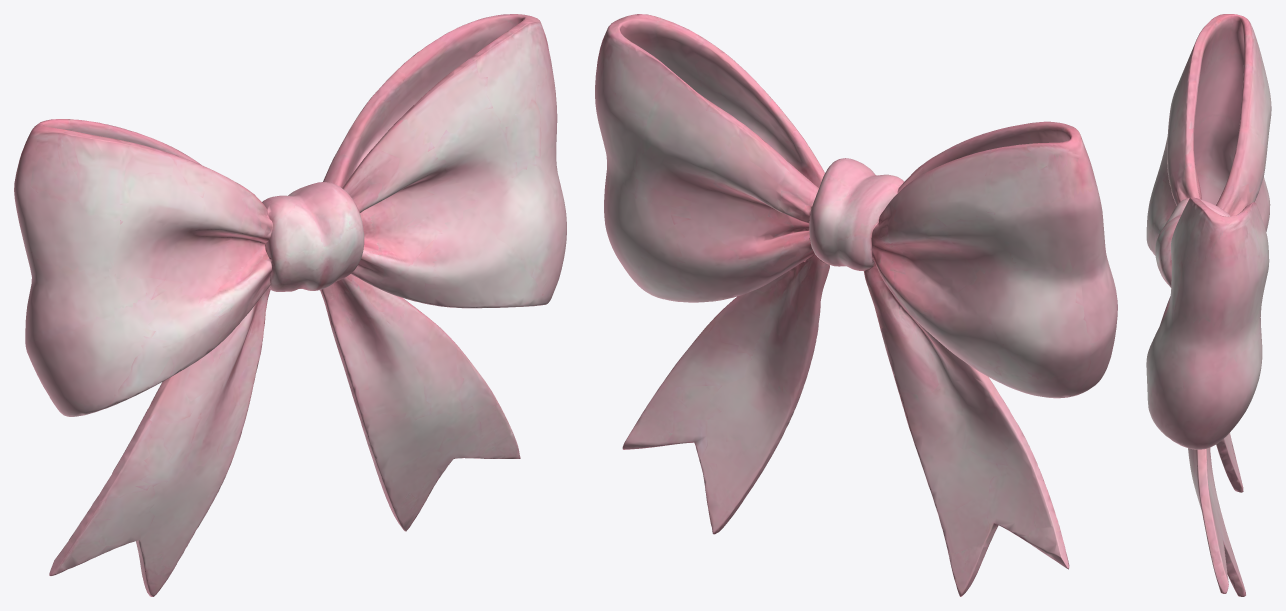
3 views of the same model, side by side, from view 1: azimuth 30°, elevation 25°; view 2: azimuth 150°, elevation 25°; view 3: azimuth 270°, elevation 25° (orthographic). The views are drawn at different scales.
Size of the model in its own units: 1.9 by 1.73 by 0.4533.
Materials: 1 (1 with a texture image).
